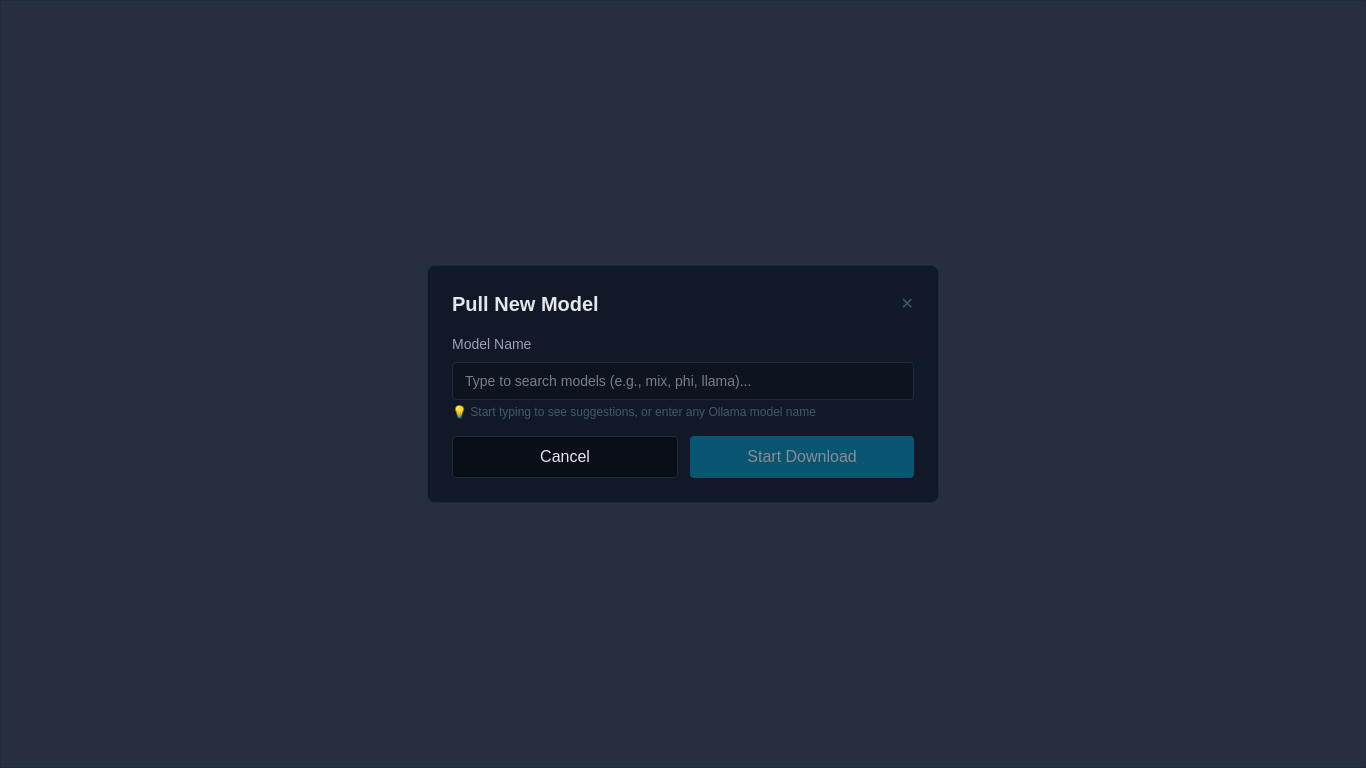
it: PullModelDialog › shows timeout warning
Type "slow-model" into the field with placeholder "Type to search models (e.g., mix, phi, llama)..." at x=683, y=381, box top-left (452, 362), bottom-right (914, 400)
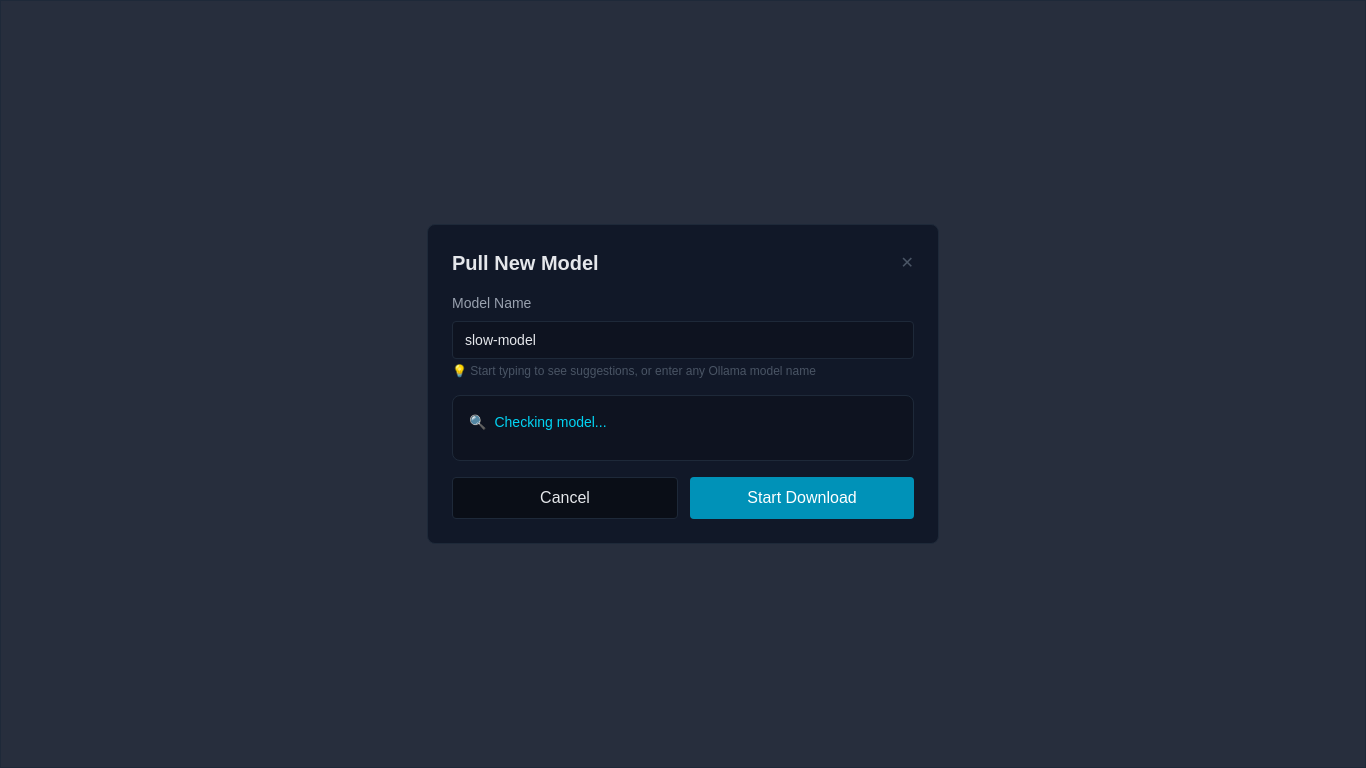
Click the button "Start Download" at x=802, y=498, box top-left (690, 477), bottom-right (914, 519)
Wait 6000 ms
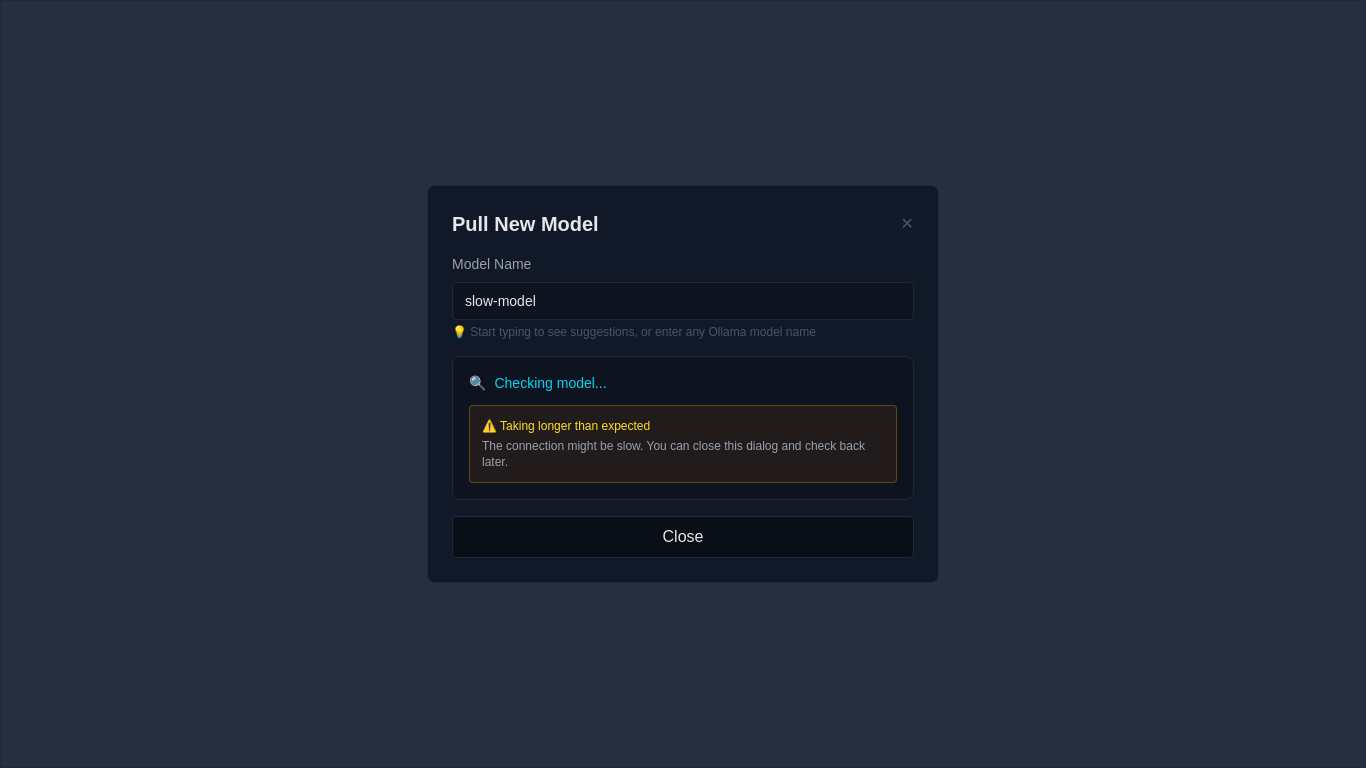
Expected: the text "Checking model..." is shown, top-left (494, 373), bottom-right (607, 393)
Expected: the text "⚠️ Taking longer than expected" is shown, top-left (482, 419), bottom-right (650, 433)
